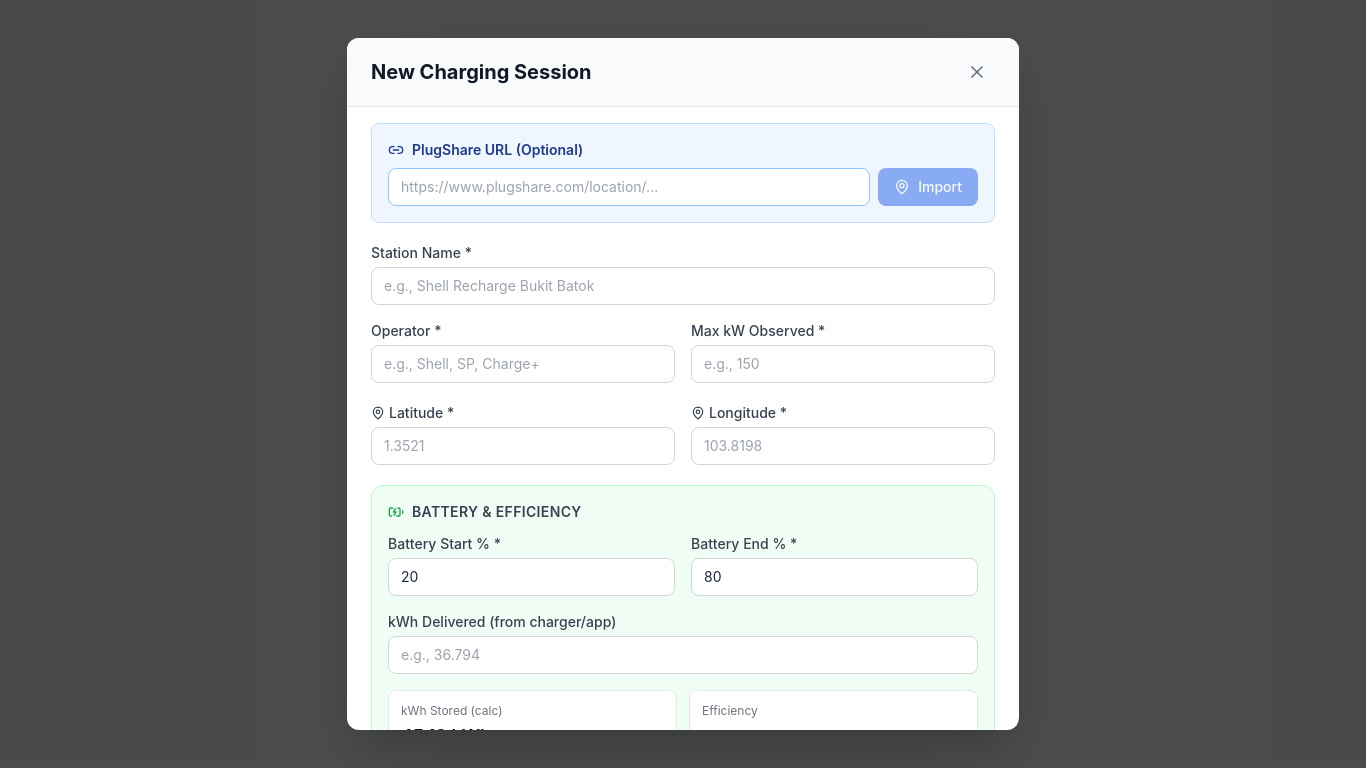
Test: NewLogModal › Create Mode › PlugShare fetch button fetches and populates data
Note: Enter PlugShare URL
Type "https://www.plugshare.com/location/123456" into the field with placeholder "https://www.plugshare.com/location/..." at (629, 187), box [388, 168, 870, 206]
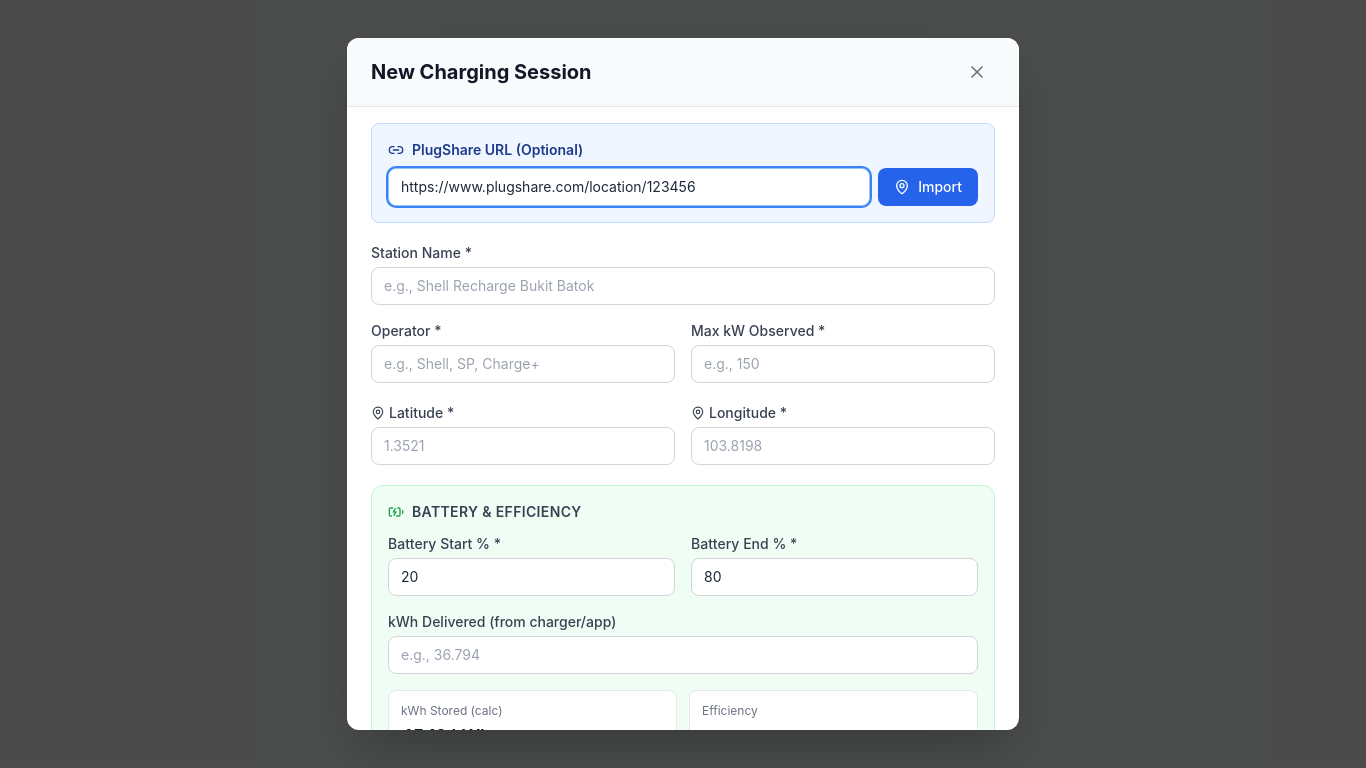
Note: Click import button
Click the button "Import" at (928, 187), box [878, 168, 978, 206]
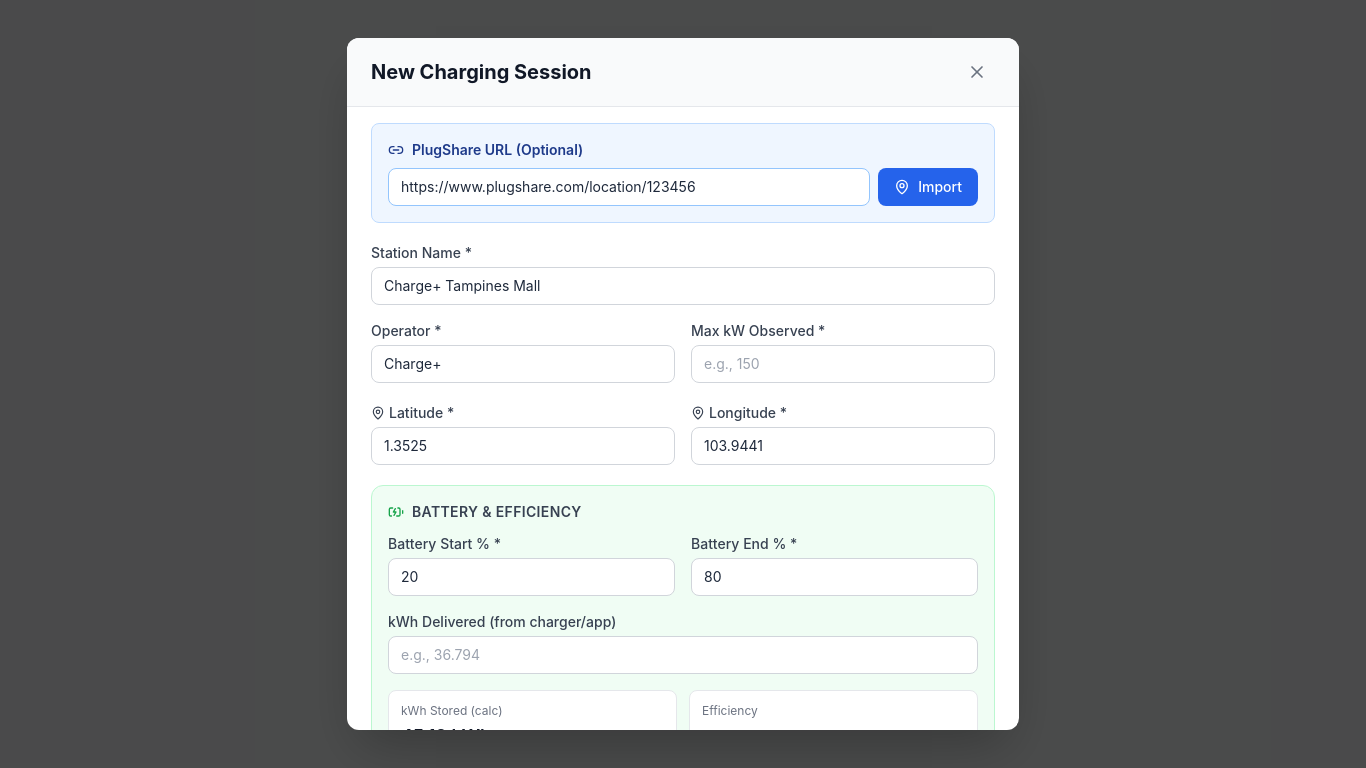
Now the field with placeholder "e.g., Shell Recharge Bukit Batok" below "Station Name *" holds "Charge+ Tampines Mall", box [371, 267, 995, 305]
Now the number field showing "1.3525" below "Latitude *" is shown, box [371, 427, 675, 465]
Now the number field showing "103.9441" below "Longitude *" is shown, box [691, 427, 995, 465]
